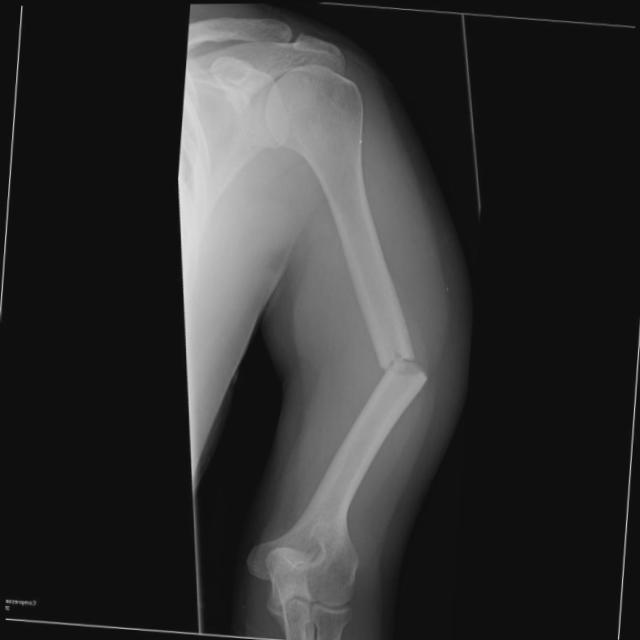Transverse: (364, 324, 443, 408)
